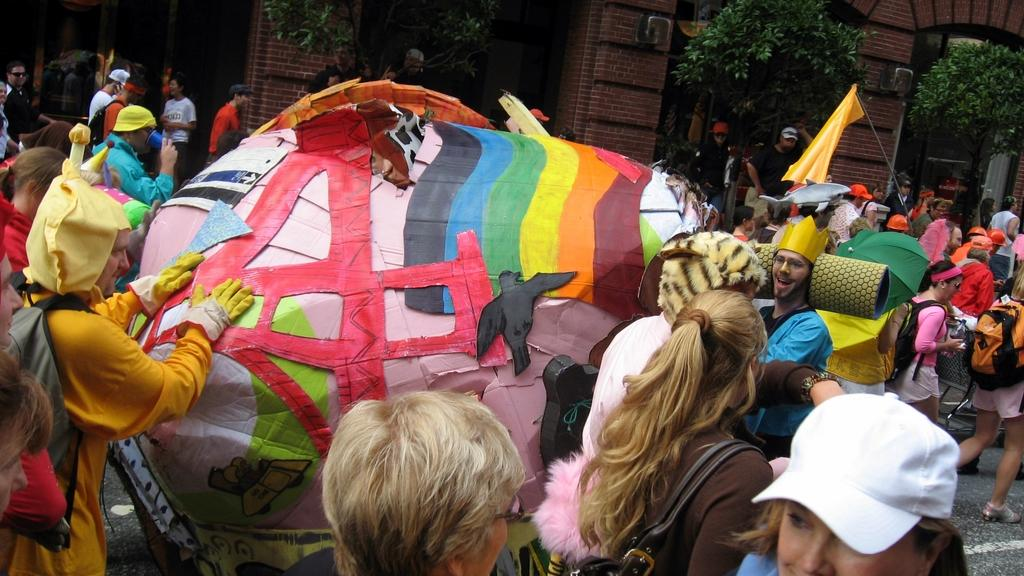Hat: (751, 390, 958, 554), (112, 104, 158, 134), (844, 184, 872, 198), (105, 68, 131, 83), (226, 84, 255, 96), (970, 237, 994, 250), (710, 119, 728, 134), (782, 127, 798, 142)
